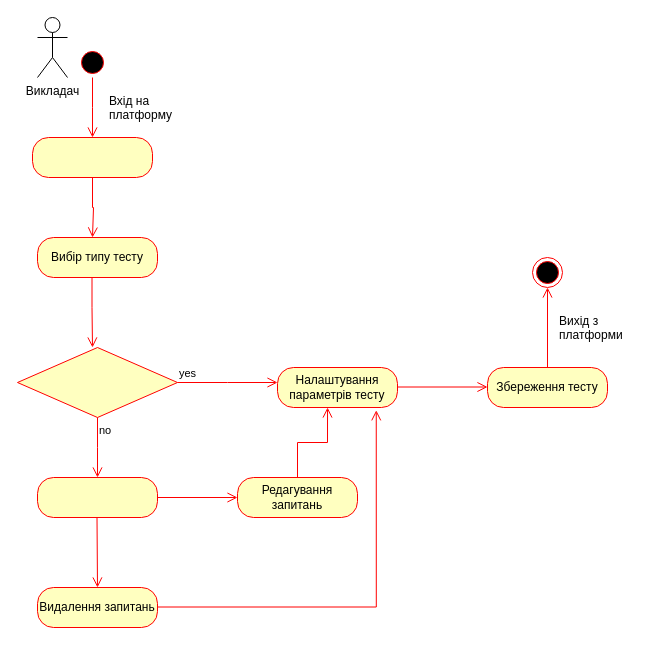
The diagram is 645 pixels wide and 645 high, and some of its shapes have lost their labels. The shapes that lost their labels are listed below. From the top down, each one's centre as x and y in pixels, then its label:
pixel 92 157: Вибір предмету та розділу
pixel 97 382: Визначення рівня складності
pixel 97 497: Додавання запитань
